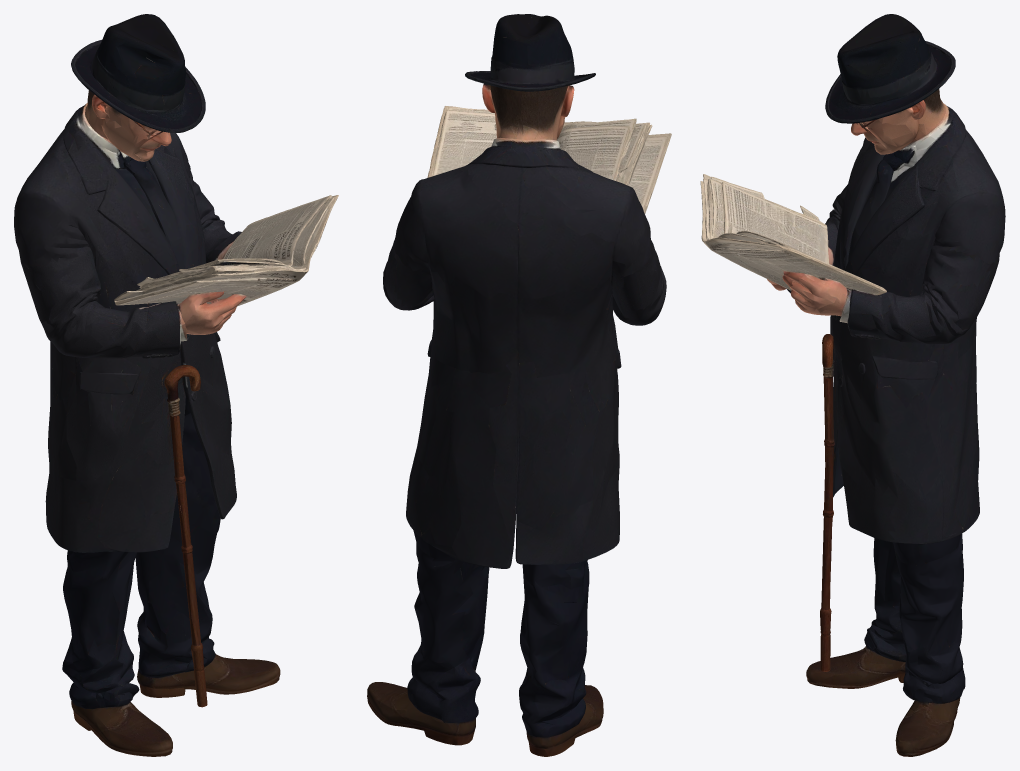
Rendered from passerby_man.glb.
3 renders of one model, left to right at view 1: azimuth 30°, elevation 25°; view 2: azimuth 150°, elevation 25°; view 3: azimuth 270°, elevation 25°, orthographic. The views are drawn at different scales.
Bounding box in the file's own units: 0.7494 × 1.9 × 0.7893.
1 material, 1 textured.
